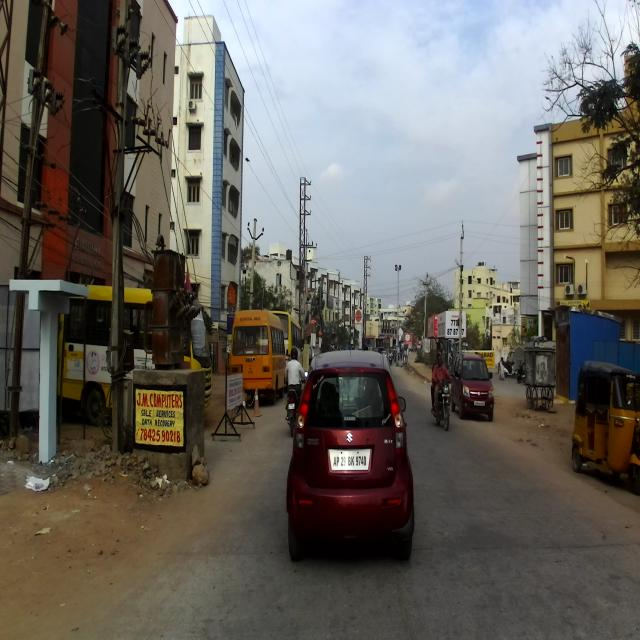auto ahead at: (569, 356, 640, 496)
barrier ahead at: (116, 368, 210, 489), (218, 366, 257, 447)
car ahead at: (283, 344, 418, 577)
electric pole ahead at: (100, 5, 180, 370)
